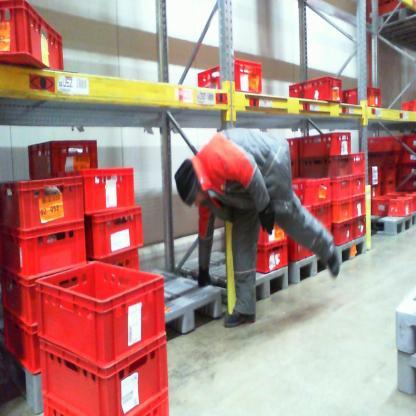pallets: (221, 252, 299, 308), (288, 235, 368, 285), (161, 279, 225, 335), (387, 277, 415, 402), (374, 210, 415, 237)
